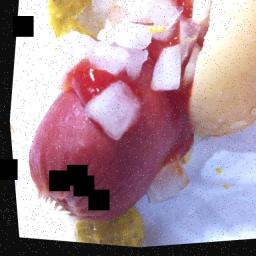hotdog: (8, 52, 194, 239)
